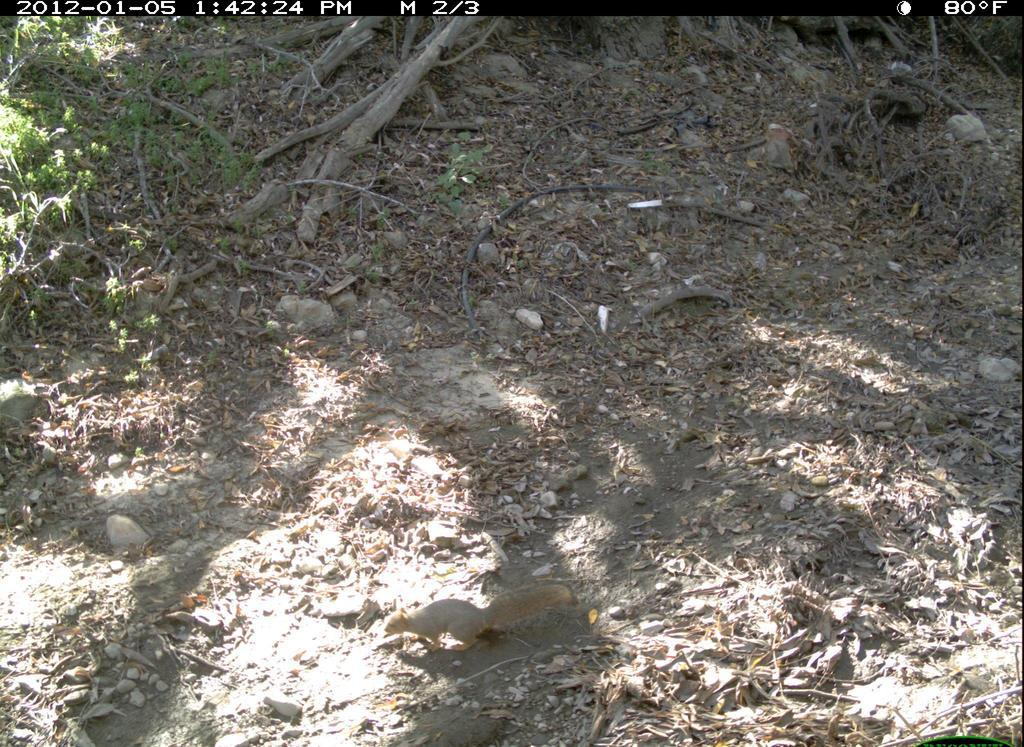squirrel: (382, 579, 584, 661)
